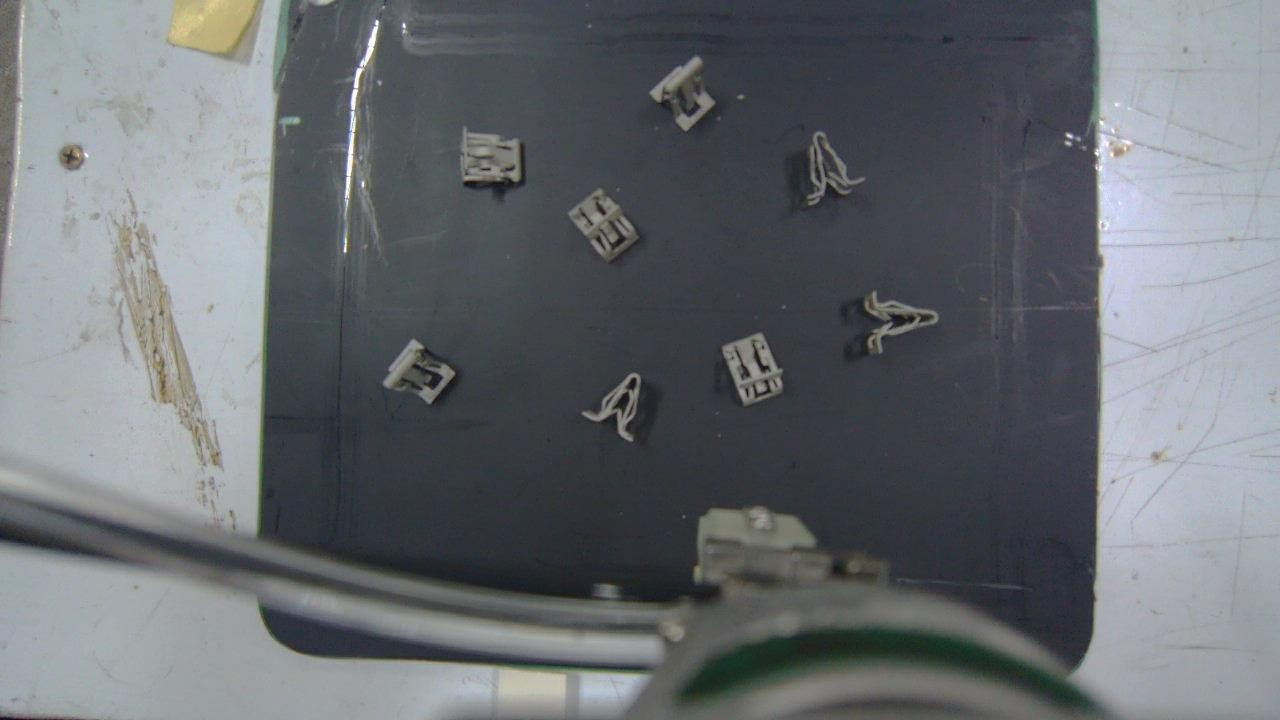ng: (568, 190, 643, 261), (650, 56, 716, 132), (863, 292, 941, 354), (383, 343, 457, 406), (722, 333, 782, 404), (586, 370, 642, 444), (808, 132, 865, 204), (461, 127, 522, 183)
